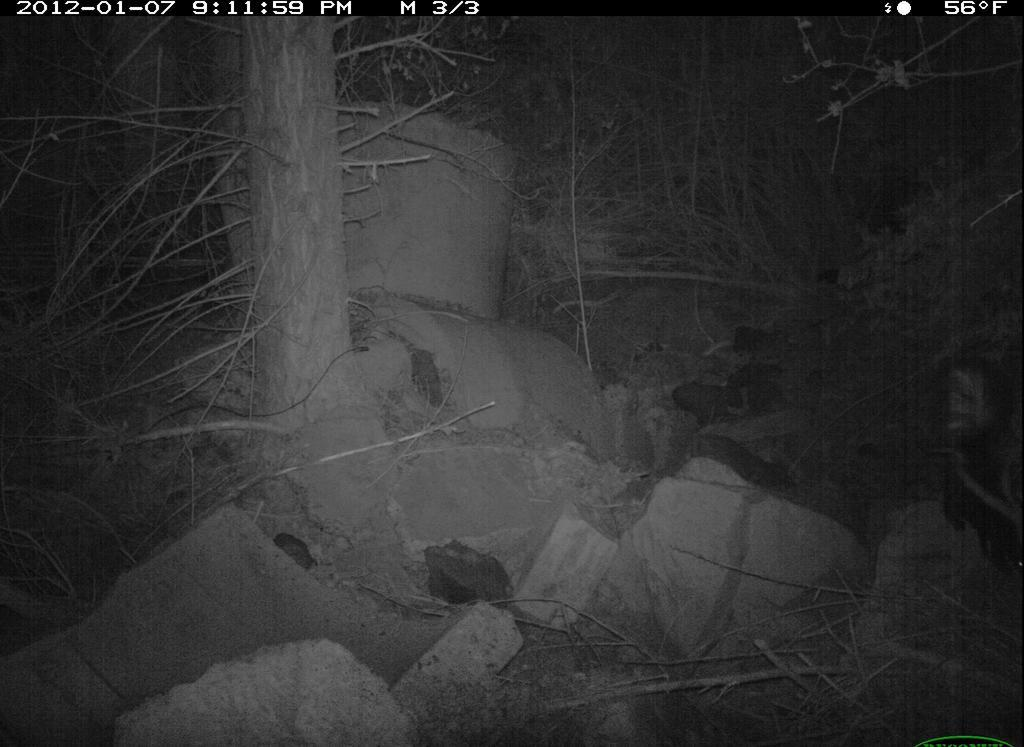skunk: (931, 328, 1021, 565)
